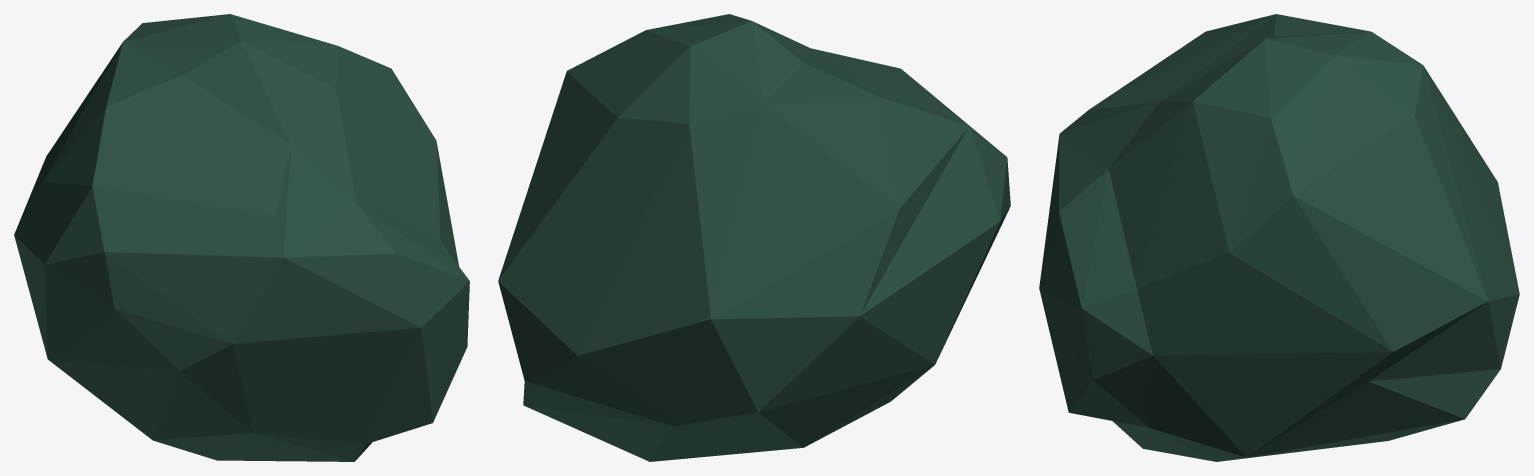
The model's file is SM_large_rock_21.fbx.
The picture shows the model from 3 angles, left to right: view 1: azimuth 30°, elevation 25°; view 2: azimuth 150°, elevation 25°; view 3: azimuth 270°, elevation 25°; orthographic projection. The views are drawn at different scales.
Parts seen in each view (by area): view 1: large_rock_21; view 2: large_rock_21; view 3: large_rock_21.
Boxes of the visible parts, left/top/right/bottom form: large_rock_21: left=14, top=14, right=469, bottom=461; large_rock_21: left=498, top=14, right=1010, bottom=461; large_rock_21: left=1039, top=14, right=1519, bottom=461.
Bounding box in the file's own units: 50.01 × 49.12 × 53.22.
